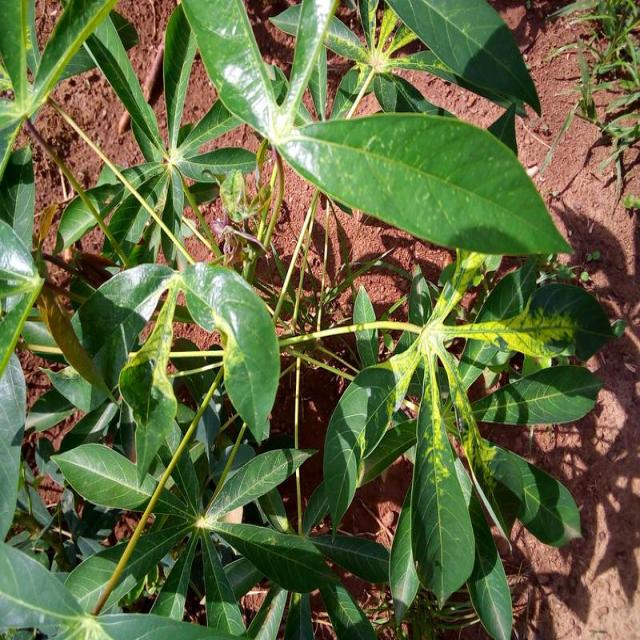cassava leaf: (276, 110, 574, 258), (179, 260, 280, 444)
